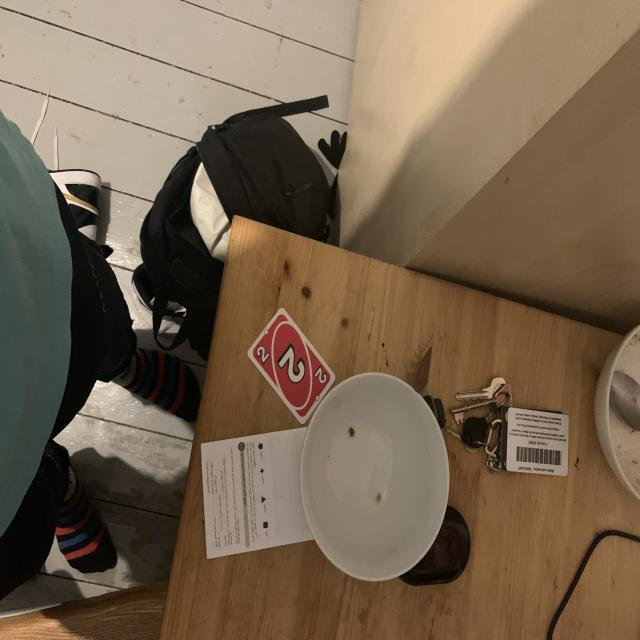lred-2: (256, 343, 272, 369)
